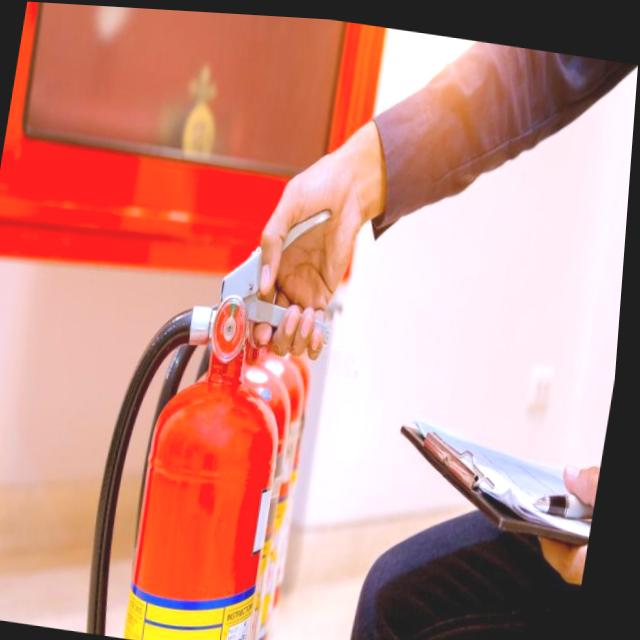FireExtinguisher: (75, 169, 358, 640)
